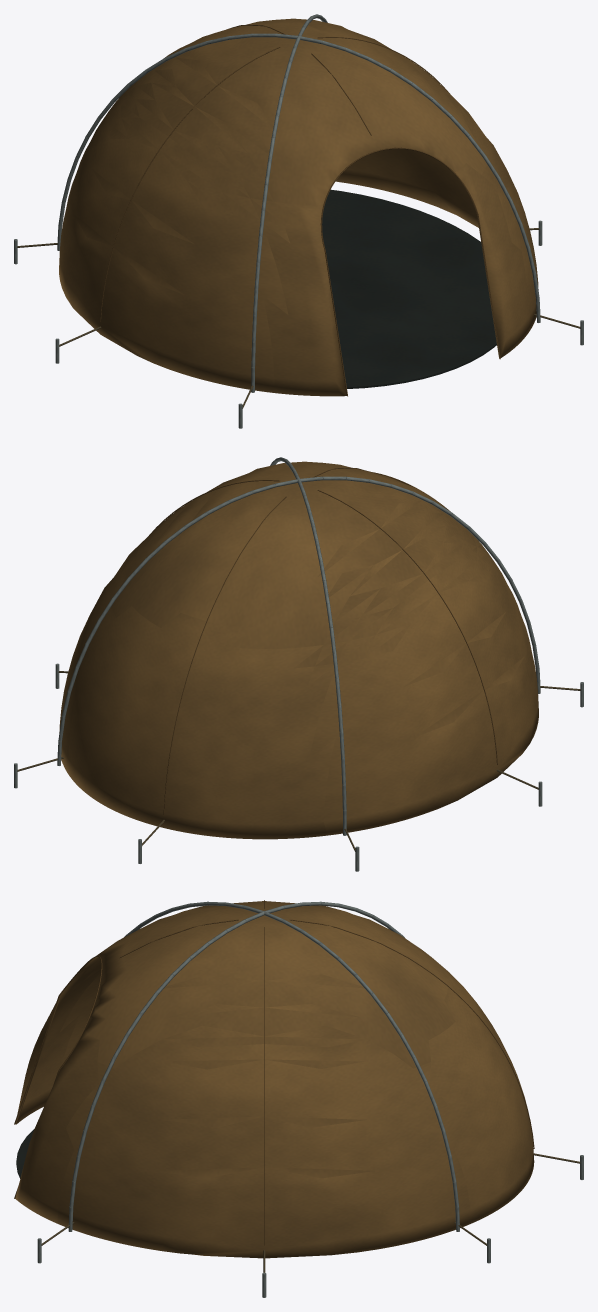
Rendered from level_camp_tent_dome_tailored.glb.
3 renders of one model, top to bottom at view 1: azimuth 30°, elevation 25°; view 2: azimuth 150°, elevation 25°; view 3: azimuth 270°, elevation 25°, orthographic.
Parts seen in each view (by area): view 1: level_camp_tent_dome_tailored; view 2: level_camp_tent_dome_tailored; view 3: level_camp_tent_dome_tailored.
Boxes of the visible parts, <box> form: level_camp_tent_dome_tailored: <box>14,14,583,428</box>; level_camp_tent_dome_tailored: <box>14,457,583,871</box>; level_camp_tent_dome_tailored: <box>14,900,583,1297</box>.
Bounding box in the file's own units: 3.44 × 1.81 × 3.49.
5 materials, 5 textured.
